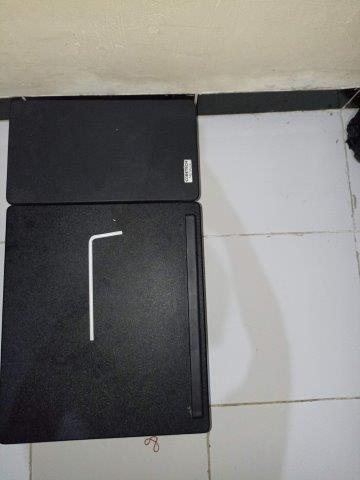karet: (144, 436, 160, 452)
sedotan: (88, 231, 122, 341)
